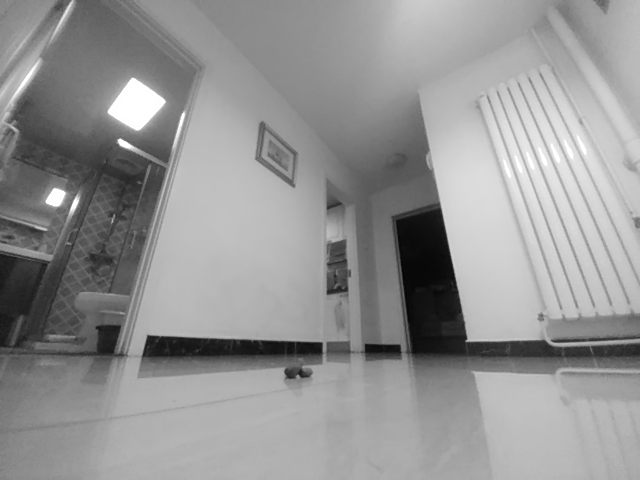pet feces: (284, 357, 313, 378)
